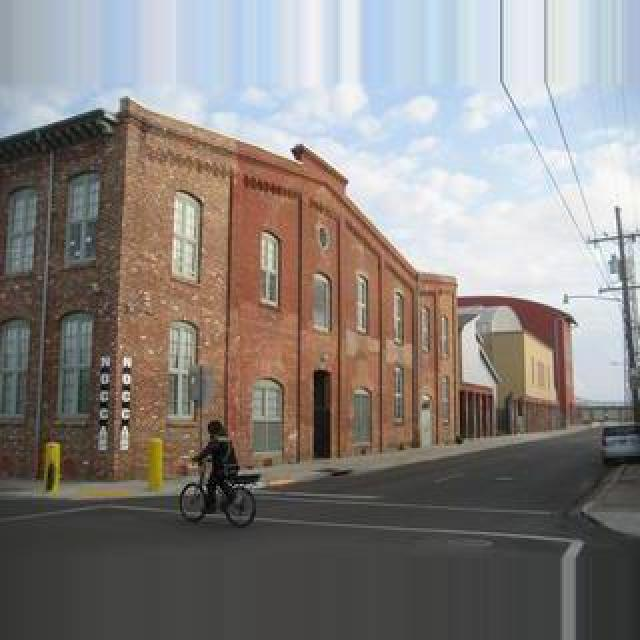Bus-Bike: (600, 424, 640, 464)
MC-Bike: (190, 422, 234, 516)
Person: (178, 460, 258, 526)
